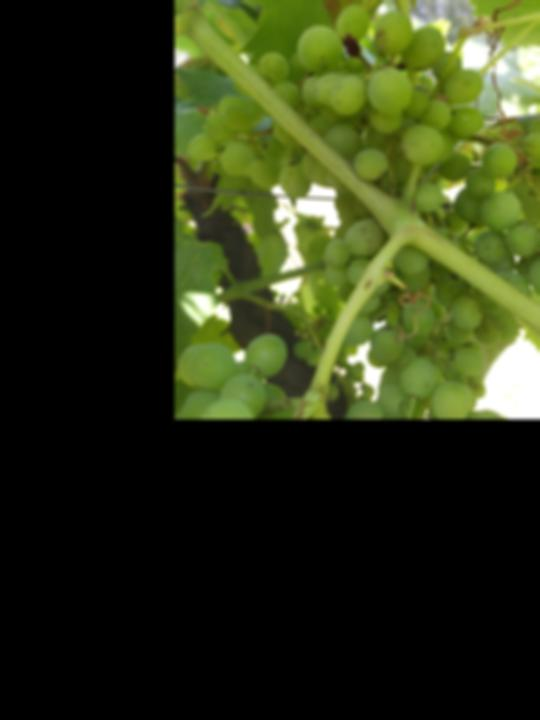grape: (182, 1, 529, 406)
